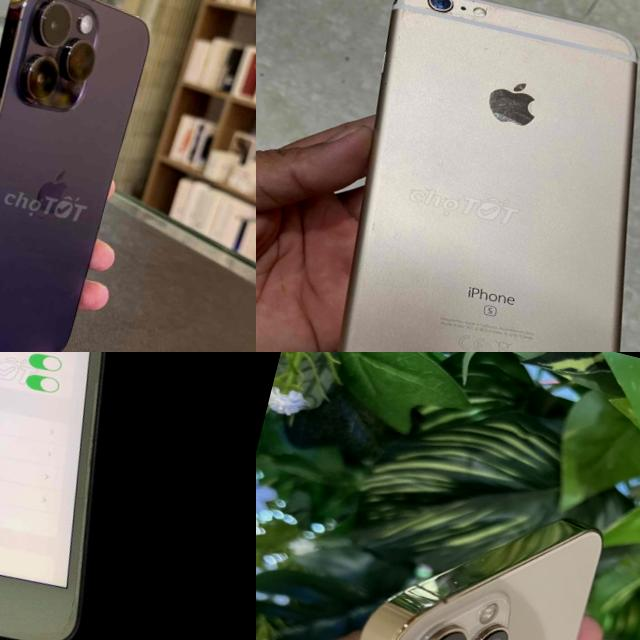gen_12_13: (285, 470, 620, 640)
gen_14: (0, 0, 165, 352)
gen_6: (337, 0, 636, 352)
gen_7_8: (0, 352, 195, 640)
scratch: (396, 0, 514, 46), (54, 576, 88, 632)
